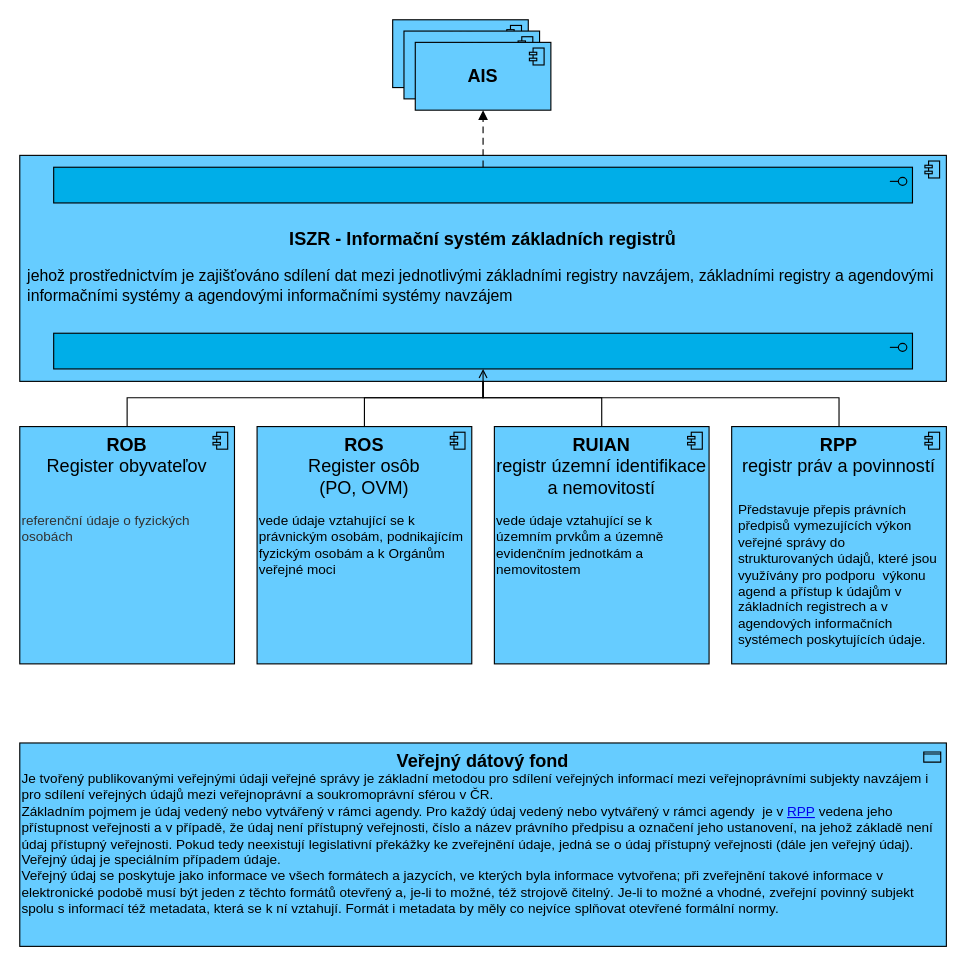
Some shapes in this 966 by 966 pixel diagram are drawn without their labels. The centre of each missing label's shape, as x and y in pixels:
"Vnútorné rozhranie" belongs at pixel 482 350.
"Vonkašie rozhranie" belongs at pixel 482 184.
